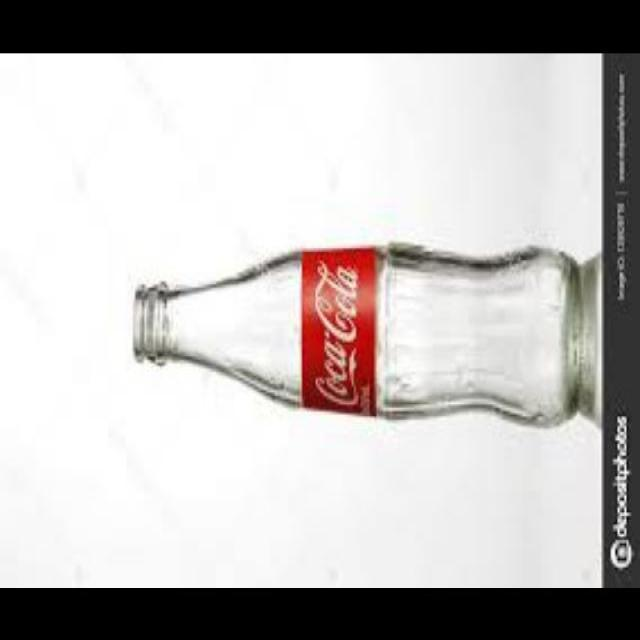Glass: (127, 238, 585, 428)
